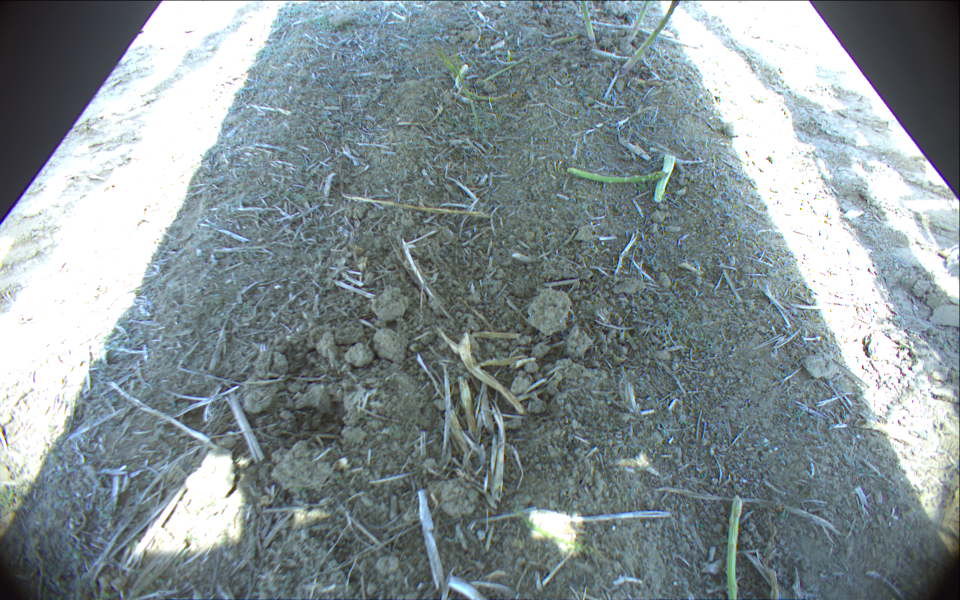aspa: (620, 1, 679, 74), (481, 46, 544, 83), (725, 496, 742, 600), (454, 64, 503, 100), (568, 168, 669, 185), (654, 153, 676, 204), (629, 1, 650, 42), (579, 1, 596, 43)
